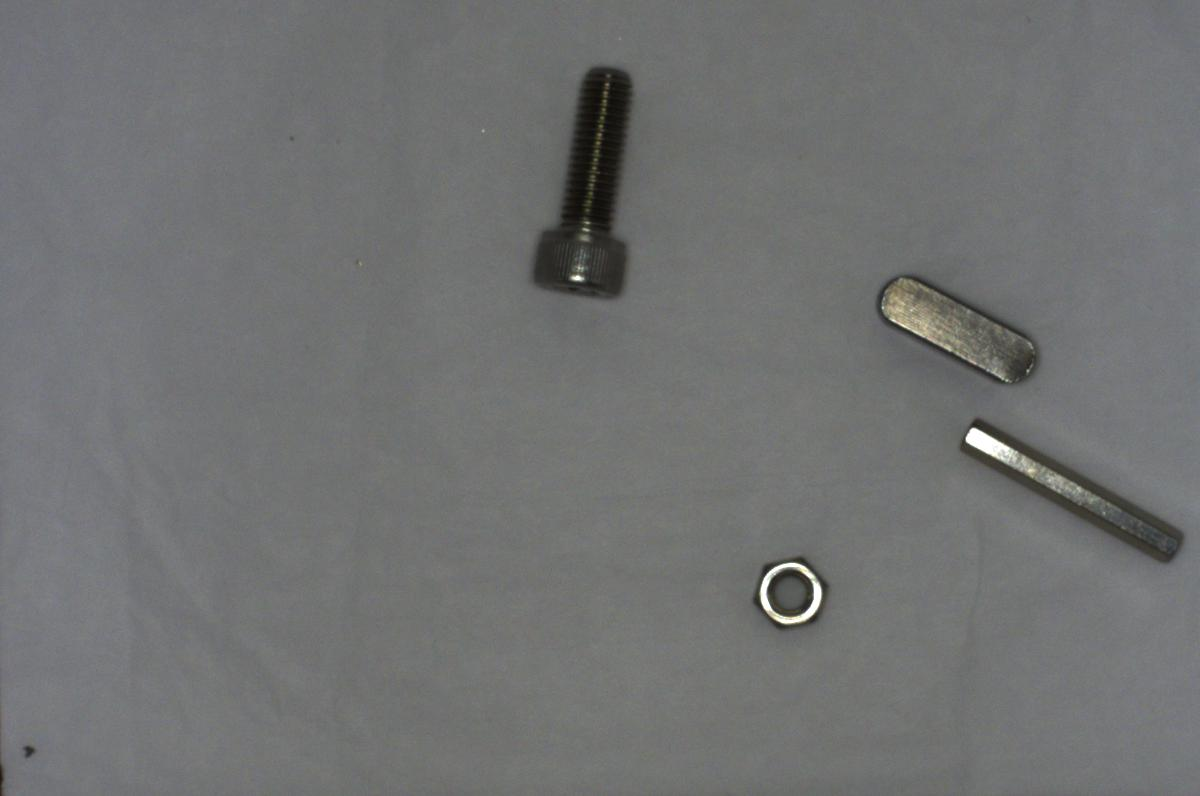Double hexagonal column: (953, 410, 1192, 566)
Hexagon nut: (751, 549, 828, 632)
Hexagon screw: (526, 55, 640, 303)
Keybar: (872, 270, 1045, 389)
